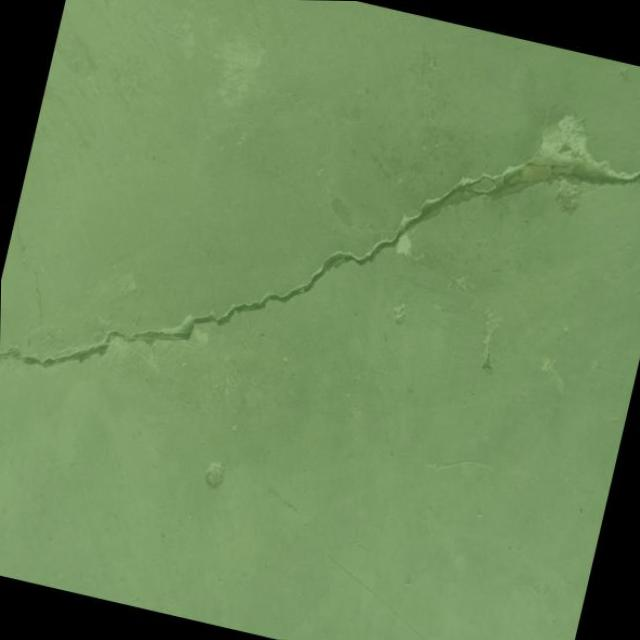crack: (0, 0, 640, 521), (0, 212, 67, 330)
